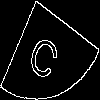C: (25, 25, 65, 83)
